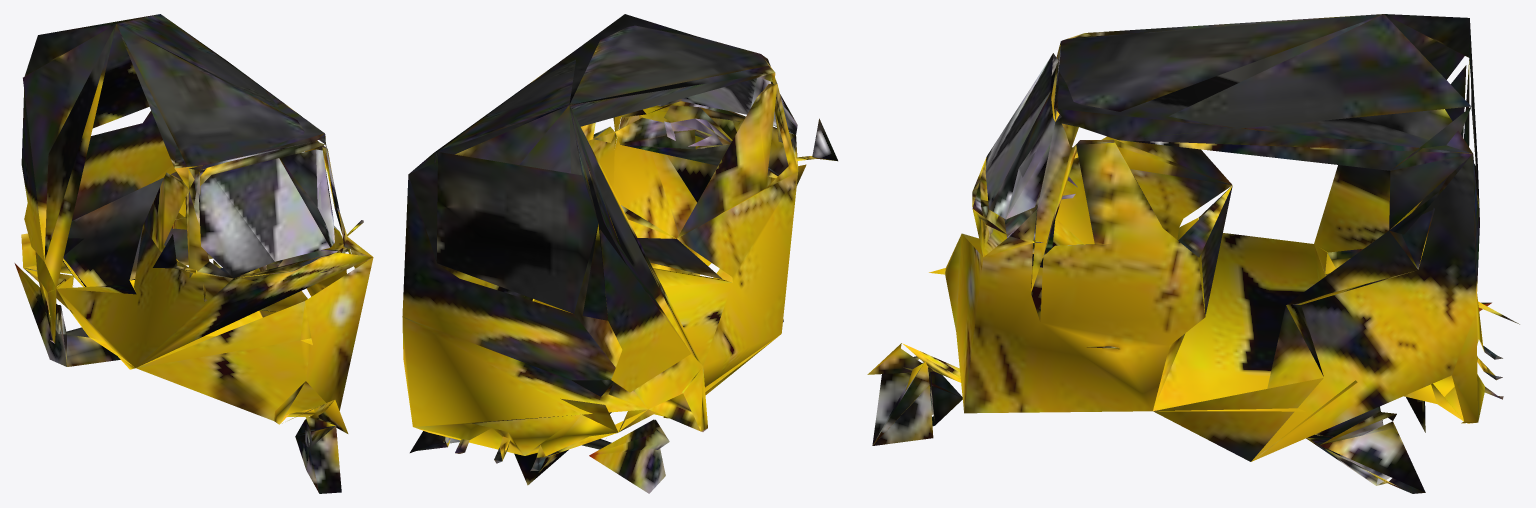
File: keke-far.glb
The picture shows the model from 3 angles, left to right: view 1: azimuth 30°, elevation 25°; view 2: azimuth 150°, elevation 25°; view 3: azimuth 270°, elevation 25°; orthographic projection. The views are drawn at different scales.
Visible parts, largest first — view 1: keke-far; view 2: keke-far; view 3: keke-far.
Boxes of the visible parts, x1,y1,x2,y2 form: keke-far: (14,14,373,493); keke-far: (402,14,837,493); keke-far: (867,14,1519,493).
Bounding box in the file's own units: 1.56 × 2.23 × 3.15.
Materials: 1 (1 with a texture image).
